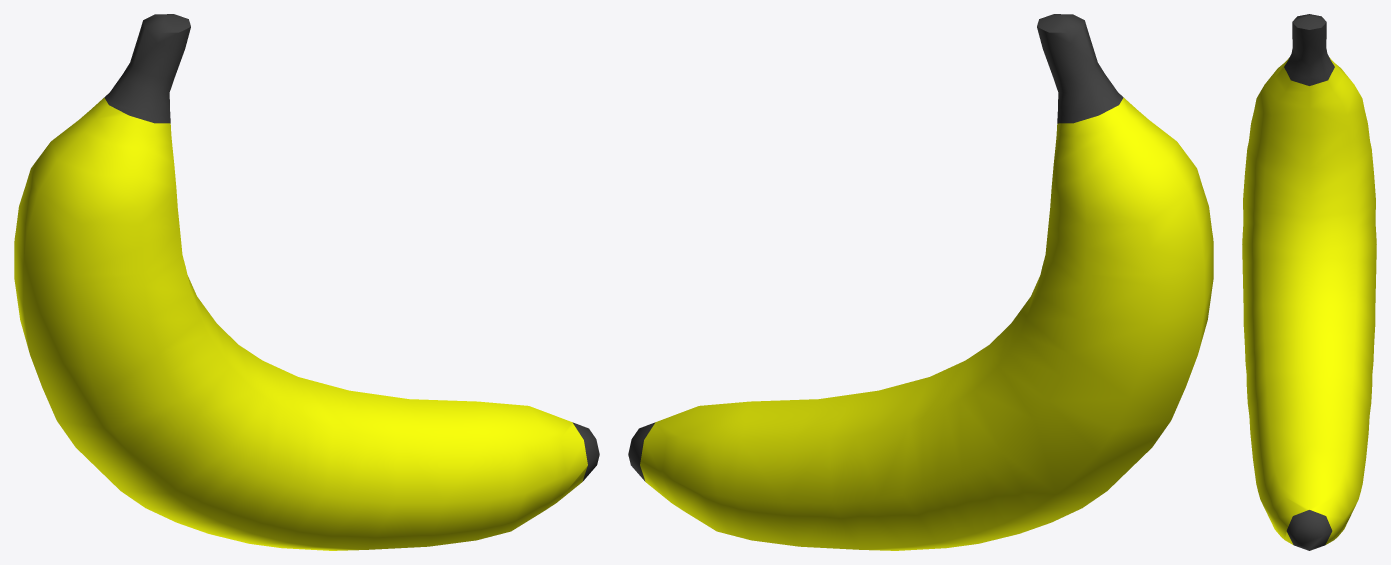
The model's file is banana.glb.
The picture shows the model from 3 angles, left to right: view 1: azimuth 30°, elevation 25°; view 2: azimuth 150°, elevation 25°; view 3: azimuth 270°, elevation 25°; orthographic projection. The views are drawn at different scales.
Size of the model in its own units: 0.7984 by 0.8 by 0.2343.
